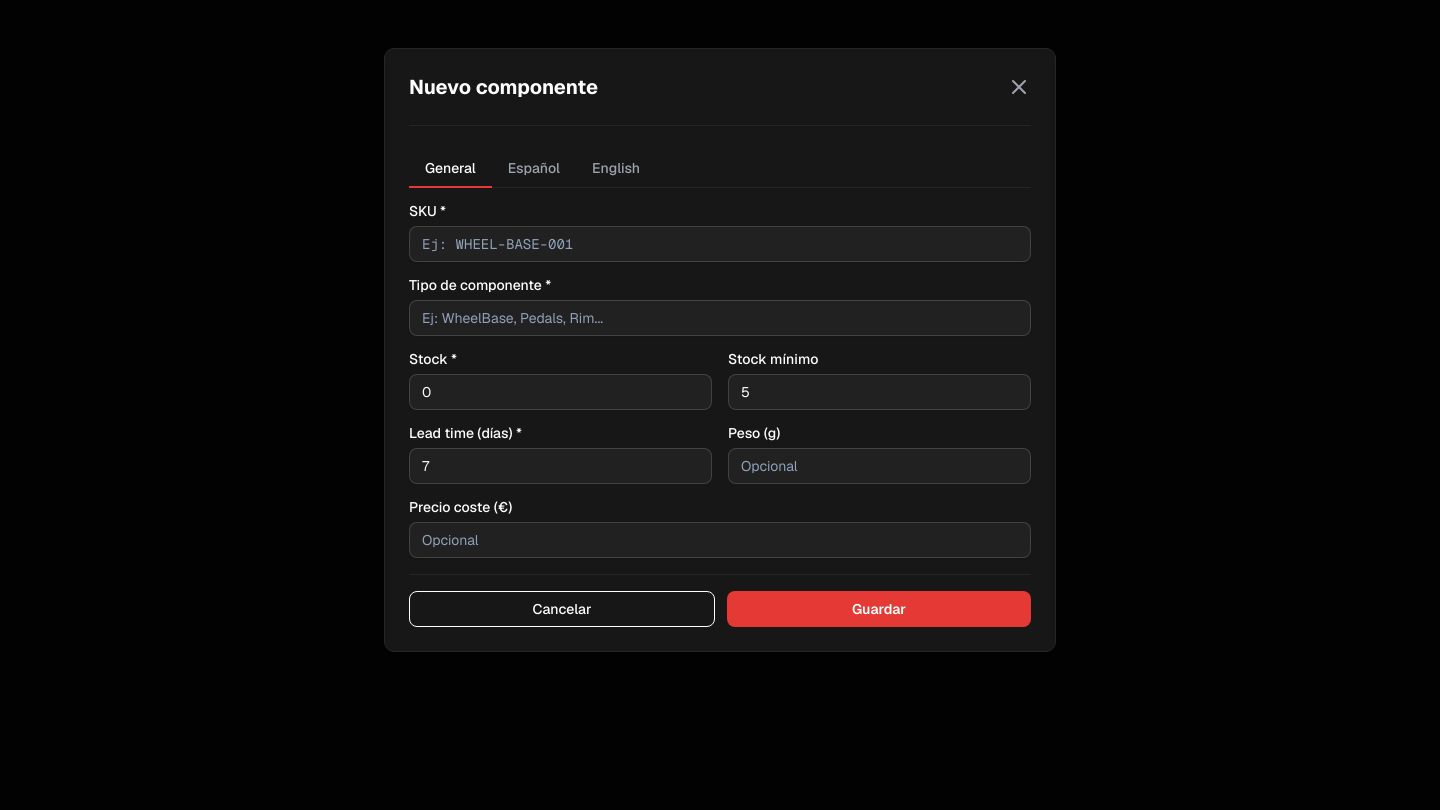
Test: ComponentModal › creación › en pestaña English muestra campo de nombre
Click the button "English" at (616, 169), box [576,150,656,188]
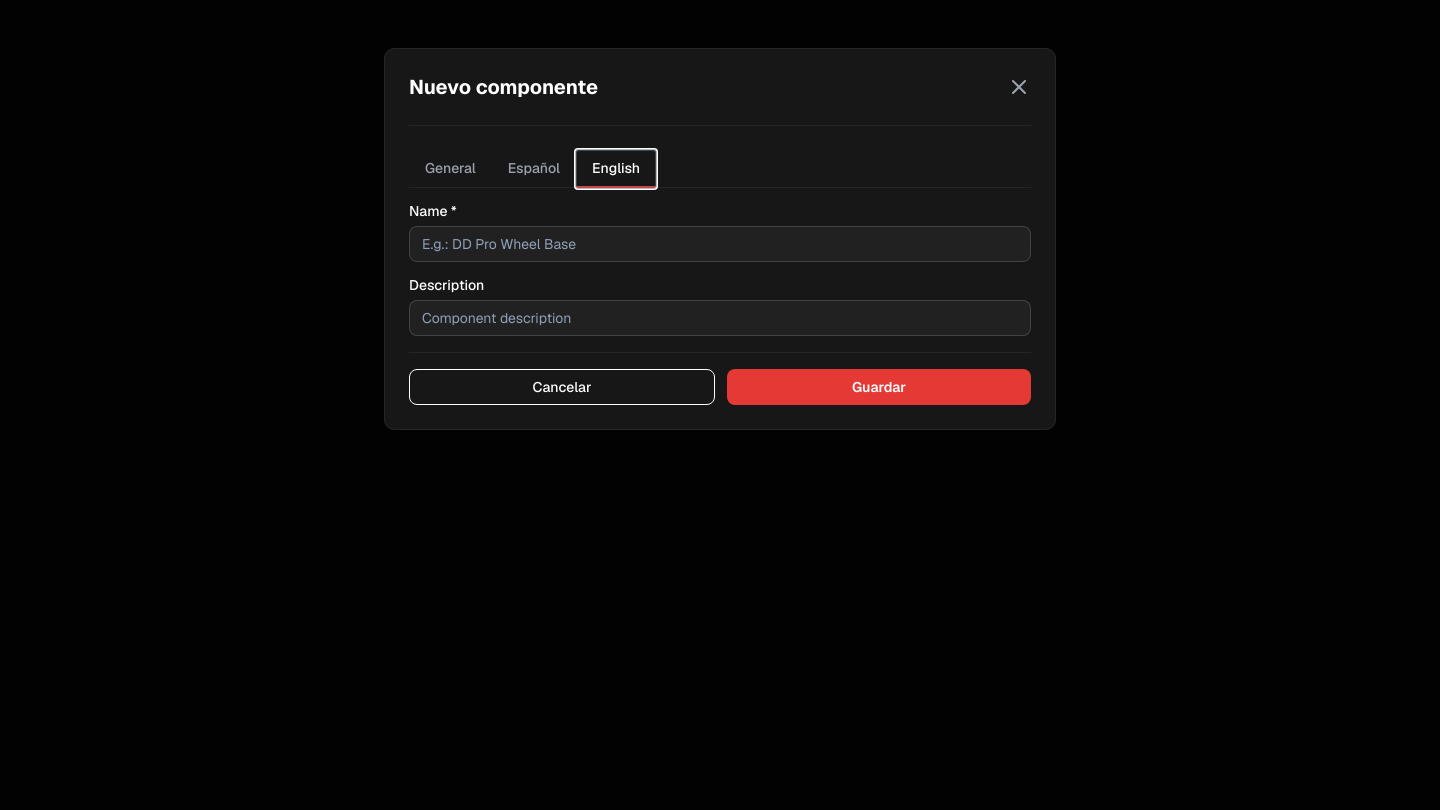
Result: the field labelled "Name *" is shown at [409,226,1031,262]
